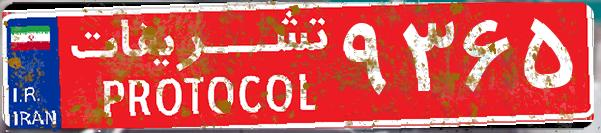3: (400, 20, 460, 115)
5: (520, 20, 580, 115)
6: (460, 20, 520, 115)
9: (340, 20, 400, 115)
تشریفات: (60, 8, 340, 125)
